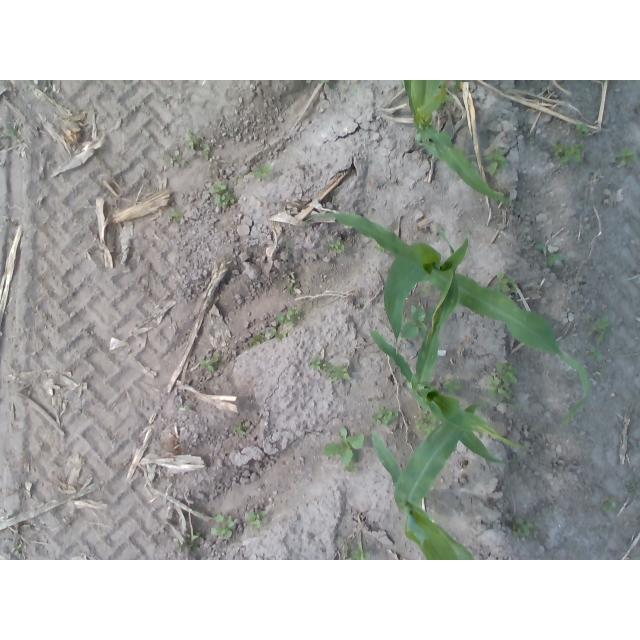Maize: (306, 215, 590, 426), (368, 223, 528, 464), (371, 400, 525, 561), (403, 80, 513, 205)
Weeds: (323, 427, 364, 473), (400, 305, 437, 340), (486, 362, 519, 399), (551, 140, 586, 165), (184, 130, 212, 160), (584, 314, 610, 343), (483, 145, 507, 176), (209, 511, 235, 537), (414, 410, 439, 437), (173, 531, 201, 553), (370, 406, 399, 426), (512, 518, 539, 538), (494, 271, 518, 293), (278, 306, 302, 327), (614, 146, 638, 166), (245, 510, 267, 530), (165, 150, 187, 168), (326, 365, 350, 381), (199, 355, 221, 372), (442, 377, 462, 395), (213, 190, 235, 206), (288, 272, 301, 297), (352, 544, 371, 561), (265, 327, 287, 341), (251, 164, 272, 178), (547, 252, 566, 267), (327, 239, 346, 254), (0, 128, 18, 141), (308, 358, 326, 371), (209, 182, 228, 194), (233, 421, 248, 436), (574, 122, 588, 138), (169, 208, 185, 221), (248, 334, 264, 347), (601, 497, 615, 511), (588, 348, 602, 360), (12, 543, 23, 558), (420, 284, 431, 297), (373, 243, 387, 253), (343, 539, 350, 558), (533, 242, 544, 250), (319, 81, 329, 84), (305, 80, 312, 84)
